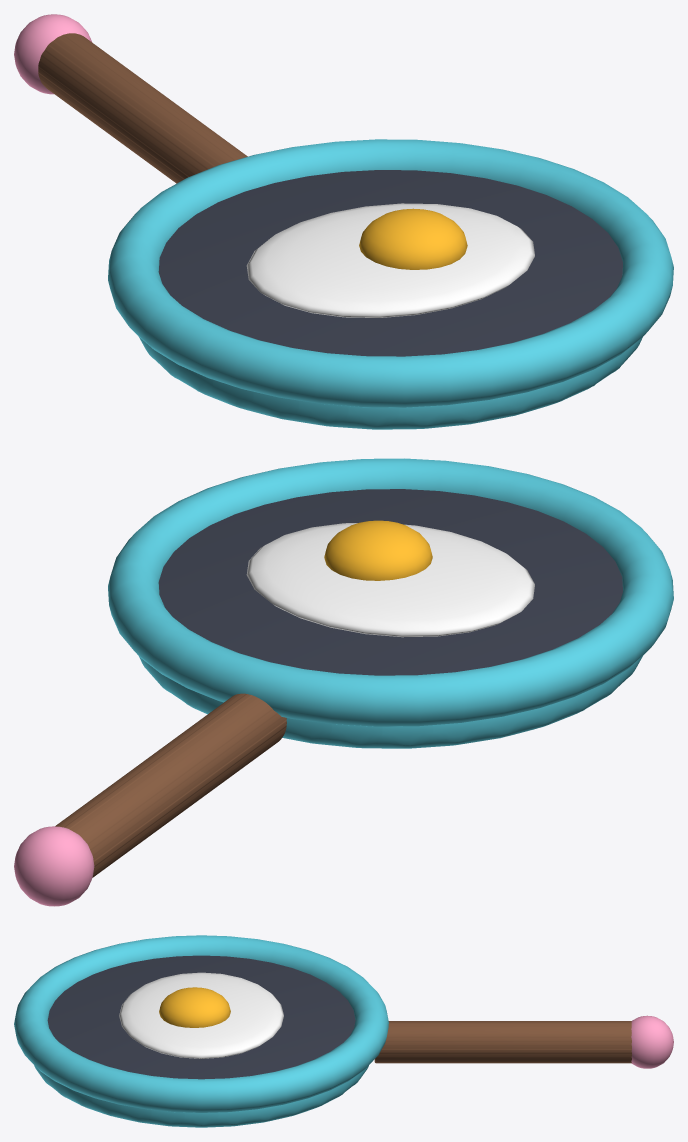
Rendered from Pan.glb.
3 views of the same model, one above another, from view 1: azimuth 30°, elevation 25°; view 2: azimuth 150°, elevation 25°; view 3: azimuth 270°, elevation 25° (orthographic). The views are drawn at different scales.
Visible parts, largest first — view 1: Torus, Cylinder.002, Sphere.001, Cylinder, Cylinder.001, Sphere.002, Sphere; view 2: Torus, Cylinder.002, Sphere.001, Cylinder, Cylinder.001, Sphere.002, Sphere; view 3: Torus, Cylinder.002, Cylinder, Sphere.001, Cylinder.001, Sphere.002, Sphere.
Boxes of the visible parts, <box> form: Torus: <box>108,139,673,407</box>; Cylinder.002: <box>158,170,622,356</box>; Sphere.001: <box>246,203,534,317</box>; Cylinder: <box>38,33,247,183</box>; Cylinder.001: <box>138,336,642,429</box>; Sphere.002: <box>359,208,467,269</box>; Sphere: <box>14,14,92,94</box>; Torus: <box>108,458,673,726</box>; Cylinder.002: <box>158,489,622,675</box>; Sphere.001: <box>246,523,534,637</box>; Cylinder: <box>55,693,286,877</box>; Cylinder.001: <box>139,655,643,748</box>; Sphere.002: <box>324,520,432,580</box>; Sphere: <box>14,826,94,906</box>; Torus: <box>14,935,388,1112</box>; Cylinder.002: <box>47,955,355,1079</box>; Cylinder: <box>374,1021,631,1063</box>; Sphere.001: <box>119,972,283,1058</box>; Cylinder.001: <box>34,1065,368,1127</box>; Sphere.002: <box>159,987,230,1027</box>; Sphere: <box>631,1015,673,1068</box>.
Bounding box in the file's own units: 0.282 × 0.066 × 0.496.
